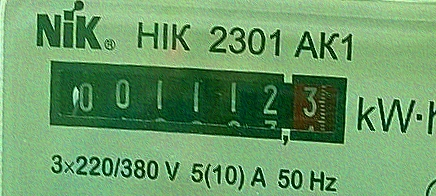0: (109, 74, 134, 113), (73, 77, 98, 114)
1: (148, 74, 169, 114), (186, 76, 203, 116), (224, 78, 241, 116)
2: (257, 81, 282, 119)
3: (298, 83, 319, 120)
screen: (37, 47, 356, 156)
